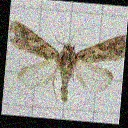Spodoptera litura: (6, 24, 124, 102)
